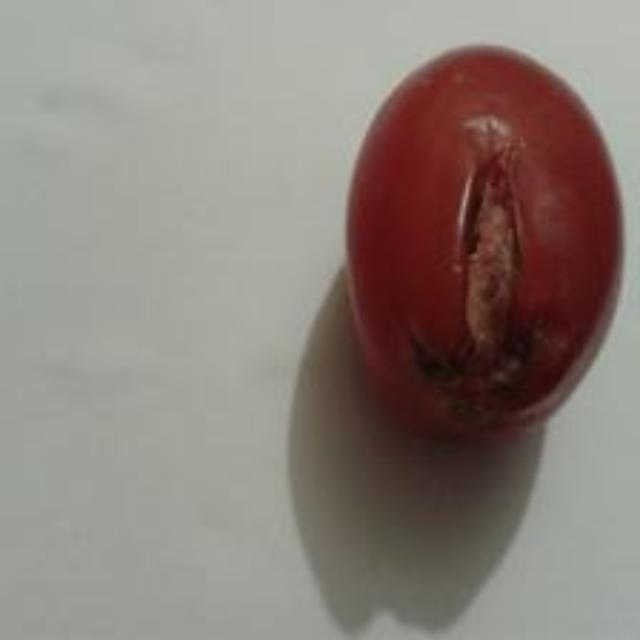defect: (341, 40, 627, 441)
